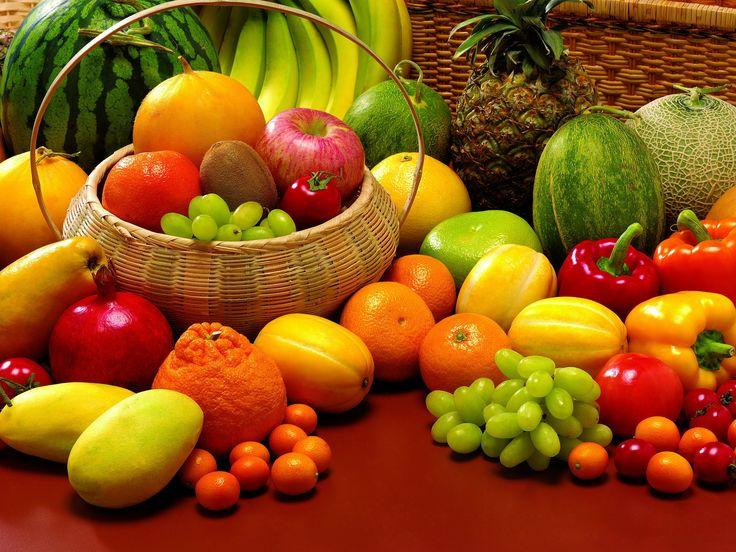apple: (260, 106, 365, 184)
grape: (432, 351, 599, 480)
kiwi: (198, 143, 277, 202)
mango: (65, 389, 202, 514), (2, 385, 130, 457)
orange: (151, 318, 290, 450), (133, 68, 272, 143), (341, 279, 430, 381), (417, 313, 508, 379), (373, 152, 466, 216), (392, 251, 457, 314)
pineapple: (456, 0, 585, 206), (158, 193, 296, 252), (101, 154, 195, 222)
watermelon: (3, 2, 209, 129), (527, 113, 675, 248)
